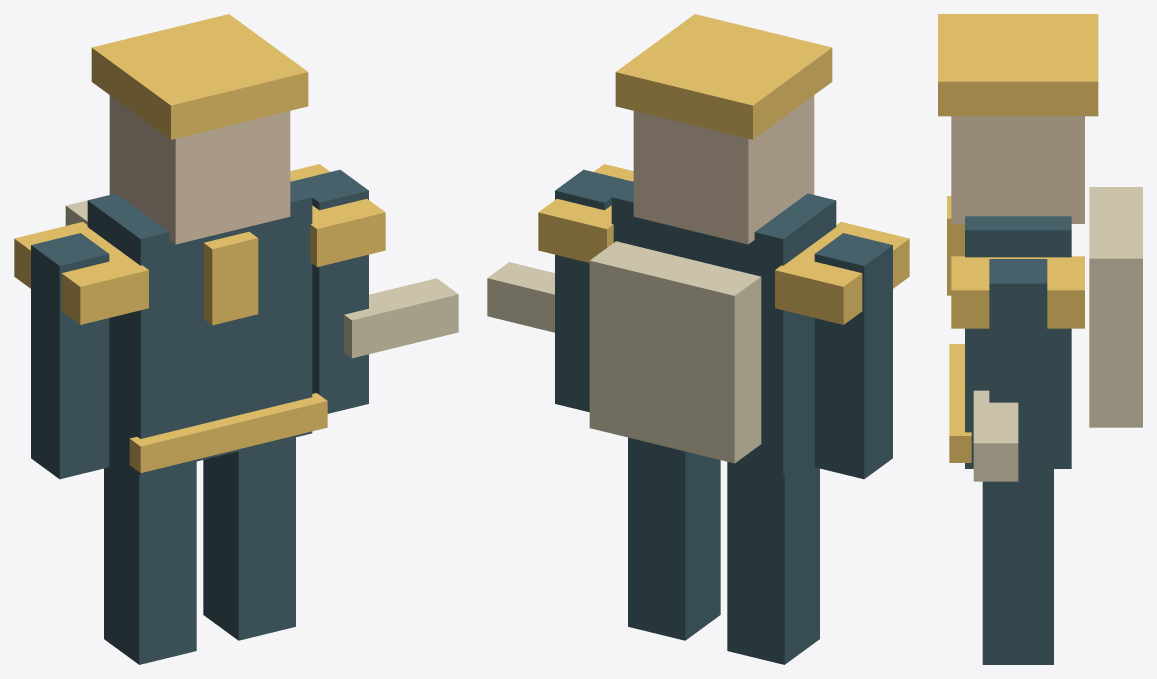
The model's file is 05_ren_rootborne_herald_under_verdant.glb.
The picture shows the model from 3 angles, left to right: view 1: azimuth 30°, elevation 25°; view 2: azimuth 150°, elevation 25°; view 3: azimuth 270°, elevation 25°; orthographic projection.
Visible parts, largest first — view 1: Ren Rootborne, Herald under Verdant; view 2: Ren Rootborne, Herald under Verdant; view 3: Ren Rootborne, Herald under Verdant.
Boxes of the visible parts, x1,y1,x2,y2 form: Ren Rootborne, Herald under Verdant: (14, 14, 458, 664); Ren Rootborne, Herald under Verdant: (487, 14, 909, 664); Ren Rootborne, Herald under Verdant: (938, 14, 1142, 664).
Size of the model in its own units: 1.08 by 1.51 by 0.4832.
